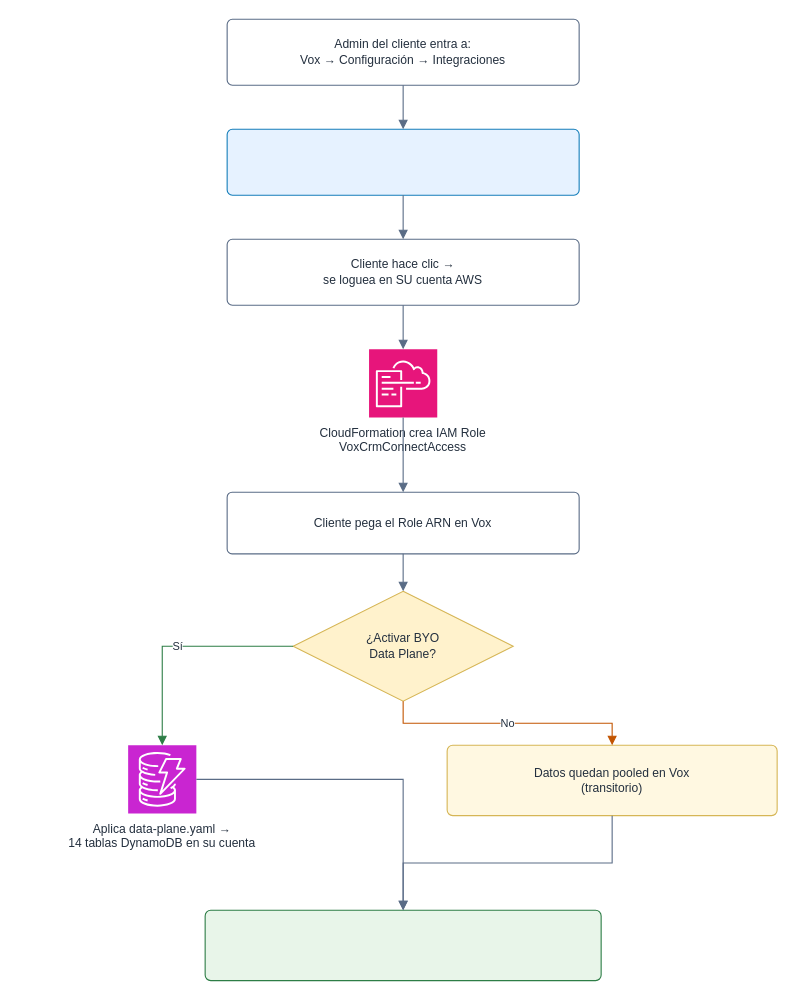
Image size: 796x1000. Some labels were removed from this diagram. Here are the shapes that lost their labels. From the top down, the centre of each, then its label:
the point at 402,161: Vox genera ExternalId único + URL 'Launch Stack' con parámetros
the point at 402,945: verify-connect-connection / diagnose-connection → Conectado
